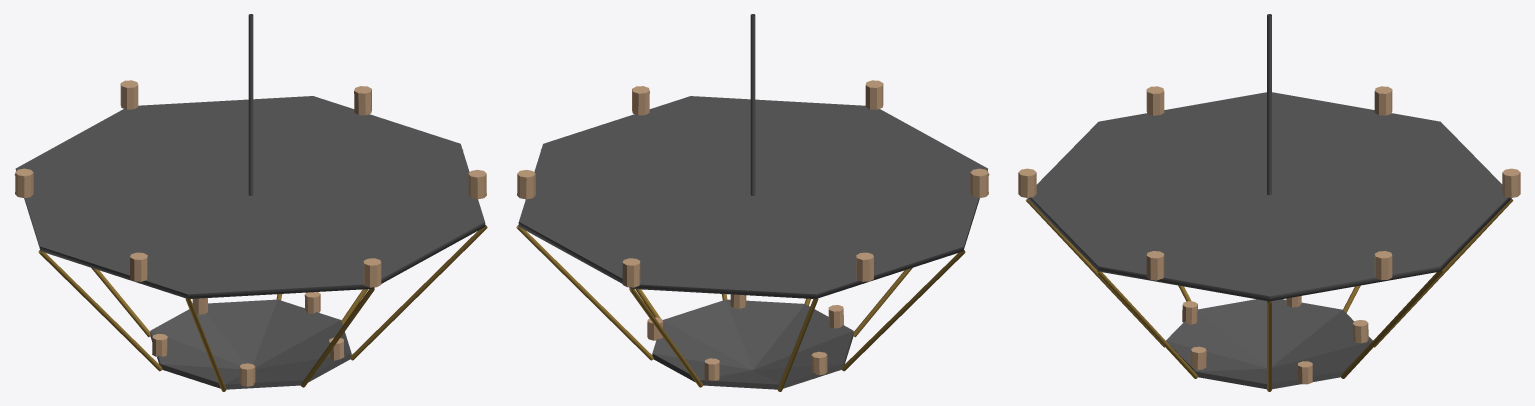
The model's file is chandelier.fbx.
3 renders of one model, left to right at view 1: azimuth 30°, elevation 25°; view 2: azimuth 150°, elevation 25°; view 3: azimuth 270°, elevation 25°, orthographic.
Visible parts, largest first — view 1: Cylinder.005, Cylinder.002; view 2: Cylinder.005, Cylinder.002; view 3: Cylinder.005, Cylinder.002.
Part boxes in pixels (<box>): Cylinder.005: <box>14,80,487,391</box>; Cylinder.002: <box>248,14,253,195</box>; Cylinder.005: <box>516,80,989,391</box>; Cylinder.002: <box>750,14,755,195</box>; Cylinder.005: <box>1018,86,1520,391</box>; Cylinder.002: <box>1267,14,1271,195</box>.
Size of the model in its own units: 202 by 164 by 208.
